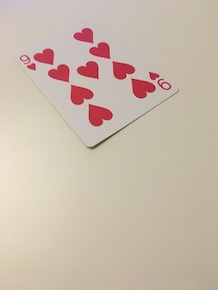NineOfHearts: (14, 14, 180, 150)
